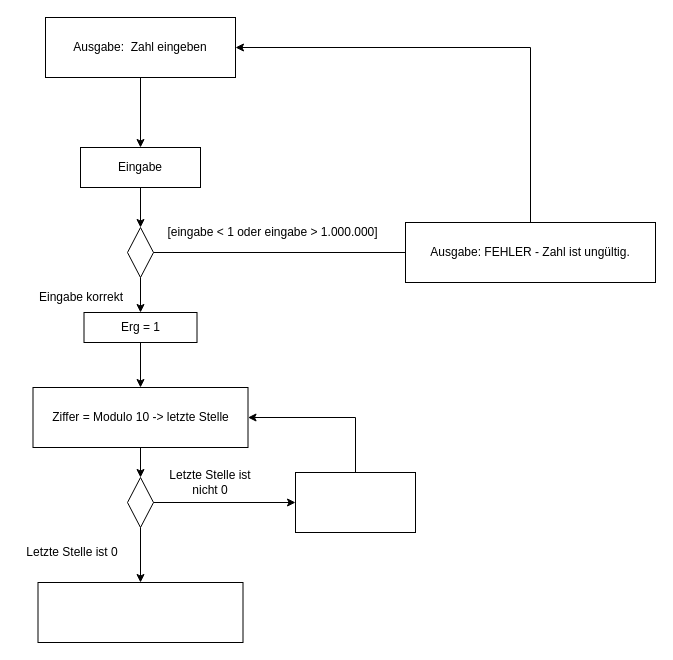
The diagram is 673 pixels wide and 660 high, and some of its shapes have lost their labels. The box of each missing label's shape, as (x1, y1, x2, y2) in pixels:
Ausgabe des Ergebnisses: (37, 582, 243, 642)
Erg mal Ziffer: (294, 472, 416, 532)
